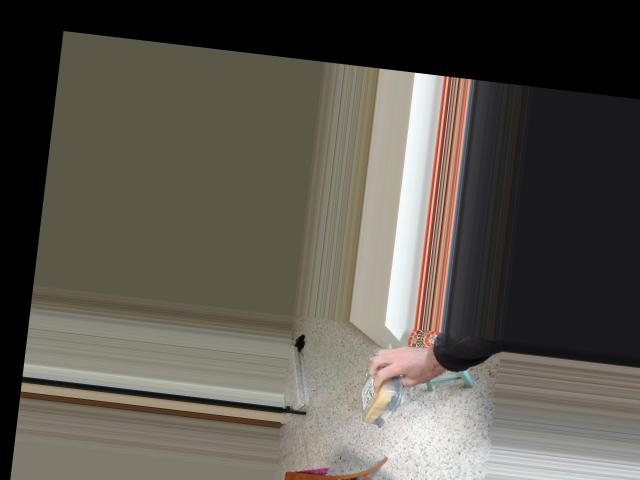cheese: (353, 351, 408, 431)
